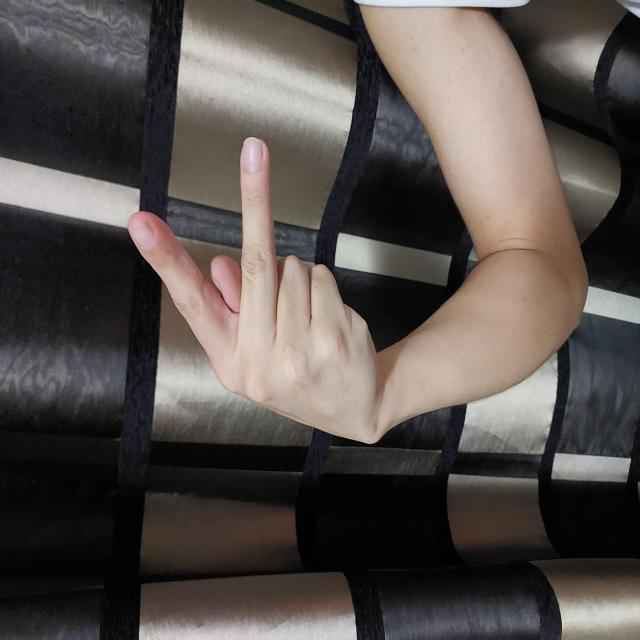K: (194, 126, 506, 382)
